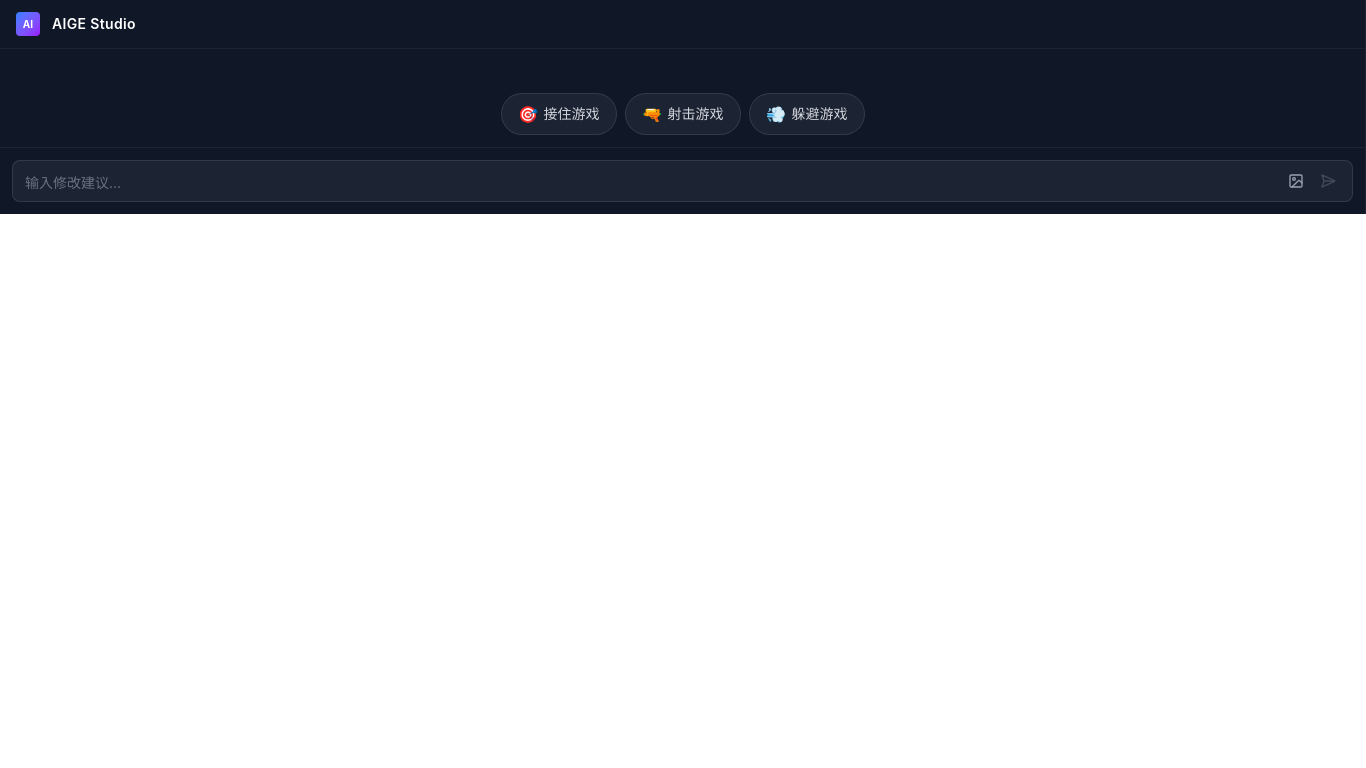
StudioChatPanel — game_type chip generates GameTypeSelector message › clicking a game_type chip adds an assistant message with the FULL game type catalog
The image size is (1366, 768).
What coordinates should you click on to do the following:
click the text "接住游戏"
I would click on:
 (572, 114)
Its box is [544,104,600,124].
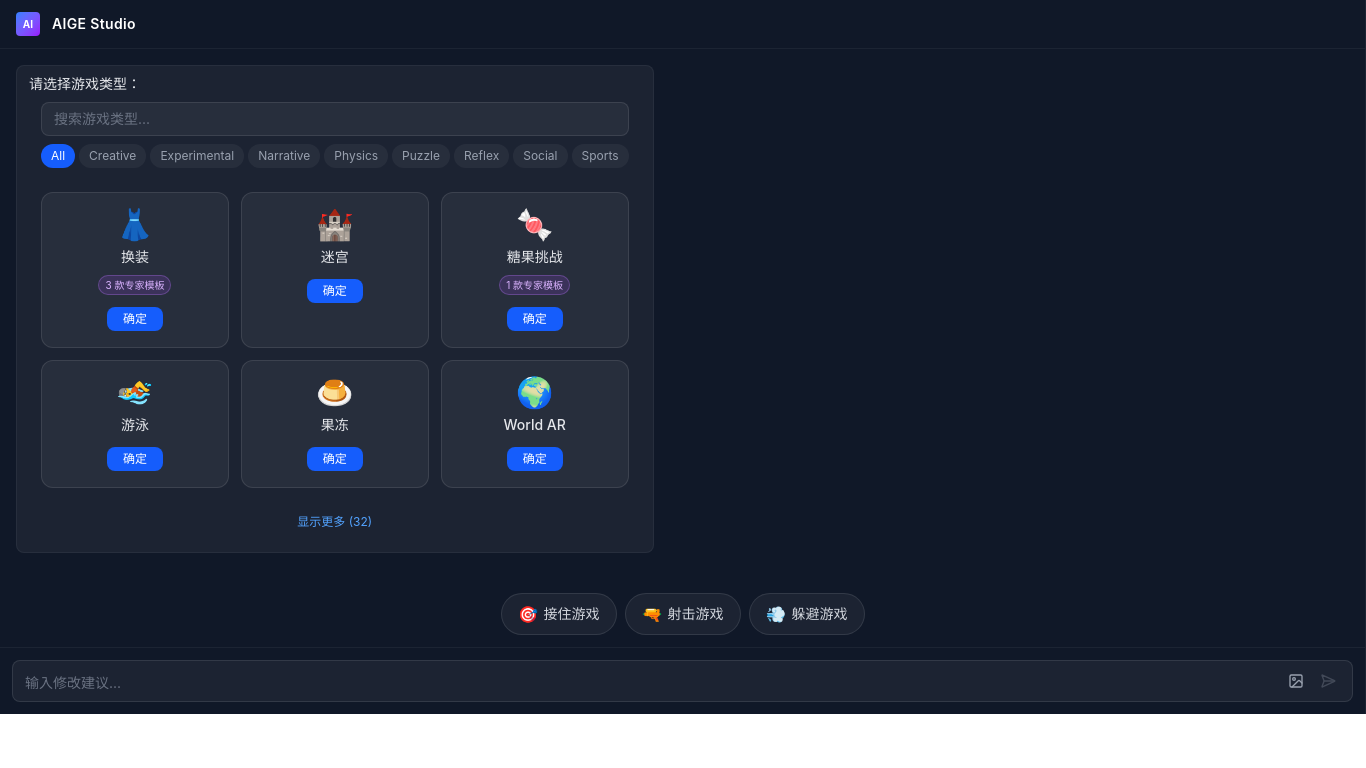
Check: the text "请选择游戏类型：" is shown, box [29,75,141,92]
